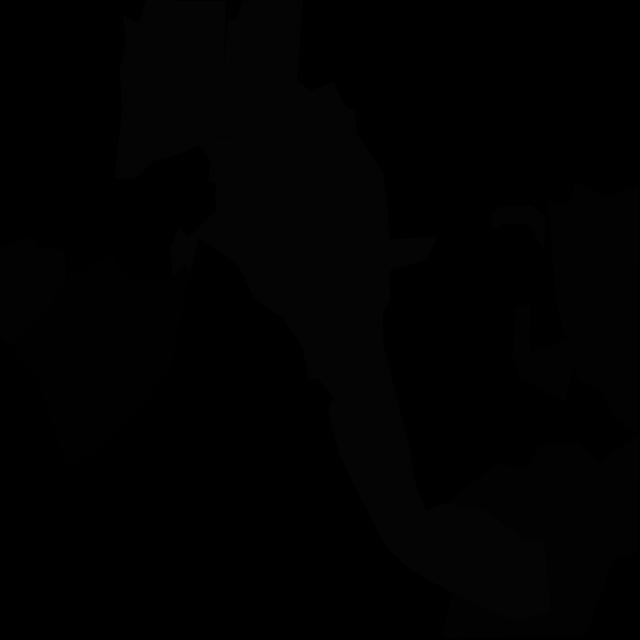cardboard: (440, 434, 639, 639), (548, 181, 639, 432), (0, 237, 66, 345), (512, 303, 574, 402)
metal: (491, 205, 545, 252)
rigid_plastic: (38, 263, 190, 467), (10, 253, 130, 384)
soft_plastic: (170, 0, 550, 622), (114, 0, 238, 179)
